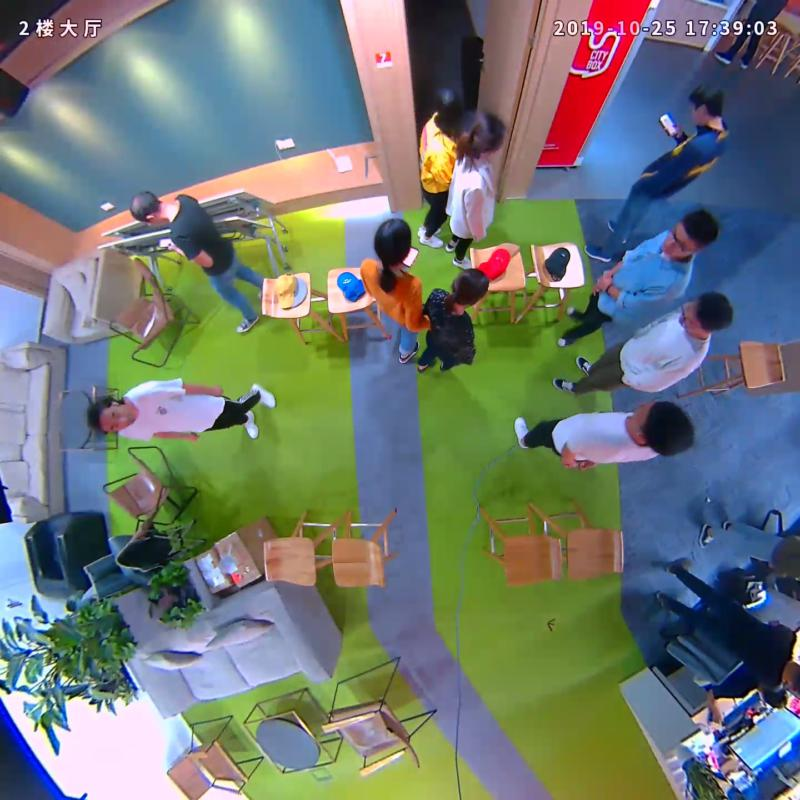head: (634, 401, 695, 458), (663, 209, 719, 260), (678, 291, 733, 335), (85, 396, 136, 435), (373, 217, 412, 266), (467, 114, 505, 160), (687, 83, 724, 125), (451, 268, 490, 305), (128, 189, 163, 228), (434, 87, 465, 127)
